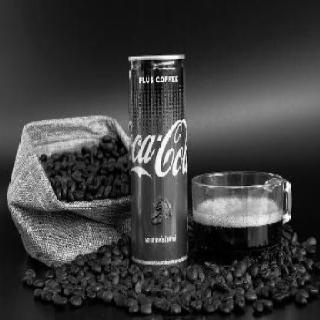alumunium_can: (128, 52, 190, 272)
objects: (190, 171, 292, 265)
